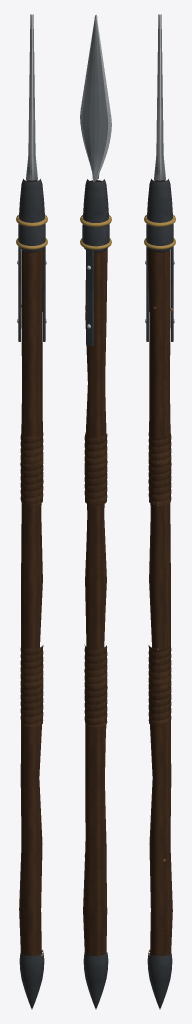
Rendered from spear.glb.
The picture shows the model from 3 angles, left to right: view 1: azimuth 90°, elevation 25°; view 2: azimuth 150°, elevation 25°; view 3: azimuth 270°, elevation 25°; orthographic projection.
Visible parts, largest first — view 1: wood / oiled hardwood, leather / oiled leather wrap, darksteel / oil-blackened fittings, steel / forged blade steel, edge / honed bright bevel, brass / polished brass furniture; view 2: wood / oiled hardwood, leather / oiled leather wrap, darksteel / oil-blackened fittings, steel / forged blade steel, edge / honed bright bevel, brass / polished brass furniture; view 3: wood / oiled hardwood, leather / oiled leather wrap, darksteel / oil-blackened fittings, steel / forged blade steel, edge / honed bright bevel, brass / polished brass furniture.
Part boxes in pixels (<box>): wood / oiled hardwood: <box>19,180,44,955</box>; leather / oiled leather wrap: <box>20,432,43,727</box>; darksteel / oil-blackened fittings: <box>18,179,45,1009</box>; steel / forged blade steel: <box>26,14,37,180</box>; edge / honed bright bevel: <box>17,14,46,322</box>; brass / polished brass furniture: <box>16,215,47,249</box>; wood / oiled hardwood: <box>83,180,107,955</box>; leather / oiled leather wrap: <box>84,433,107,727</box>; darksteel / oil-blackened fittings: <box>82,179,109,1009</box>; steel / forged blade steel: <box>82,15,108,181</box>; edge / honed bright bevel: <box>80,14,111,328</box>; brass / polished brass furniture: <box>80,215,111,249</box>; wood / oiled hardwood: <box>147,180,172,955</box>; leather / oiled leather wrap: <box>148,432,171,726</box>; darksteel / oil-blackened fittings: <box>146,179,173,1009</box>; steel / forged blade steel: <box>154,14,165,180</box>; edge / honed bright bevel: <box>145,14,174,322</box>; brass / polished brass furniture: <box>144,215,175,249</box>.
Size of the model in its own units: 0.0681 by 2.04 by 0.0592.
Materials: 9 (6 with a texture image).
